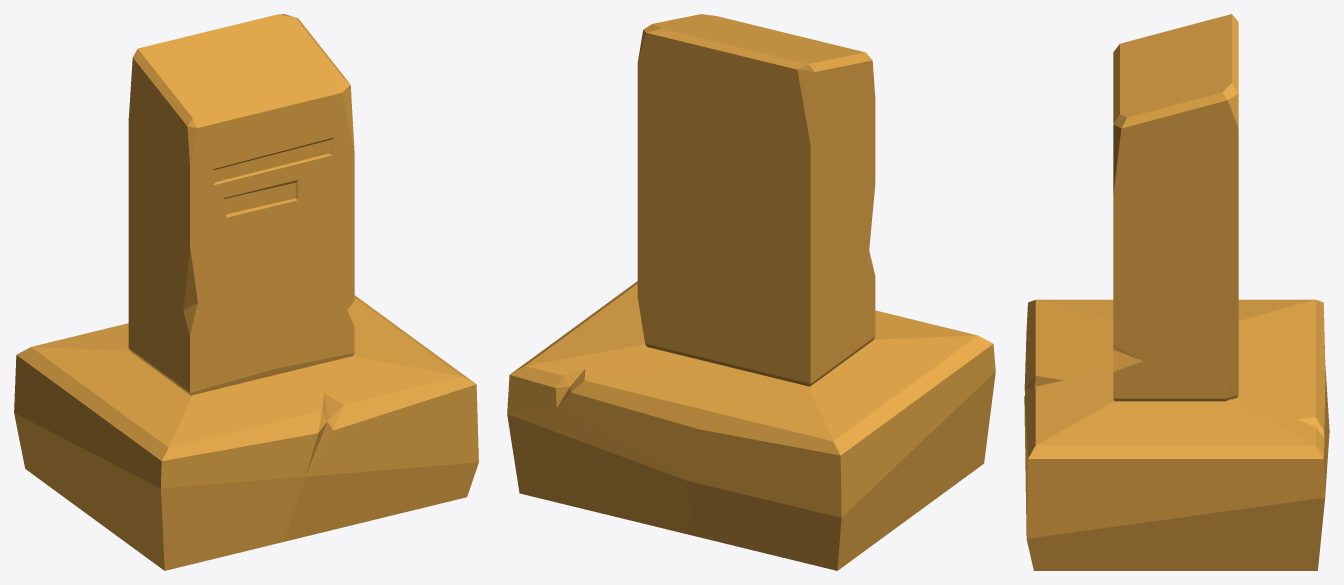
Rendered from gravestone-old-small-b.fbx.
The picture shows the model from 3 angles, left to right: view 1: azimuth 30°, elevation 25°; view 2: azimuth 150°, elevation 25°; view 3: azimuth 270°, elevation 25°; orthographic projection. The views are drawn at different scales.
Visible parts, largest first — view 1: gravestone-old-small-b; view 2: gravestone-old-small-b; view 3: gravestone-old-small-b.
Part boxes in pixels (x1,y1,x2,y2): gravestone-old-small-b: (14, 14, 478, 570); gravestone-old-small-b: (507, 14, 995, 570); gravestone-old-small-b: (1024, 14, 1329, 570).
Size of the model in its own units: 0.5055 by 0.6592 by 0.4128.
